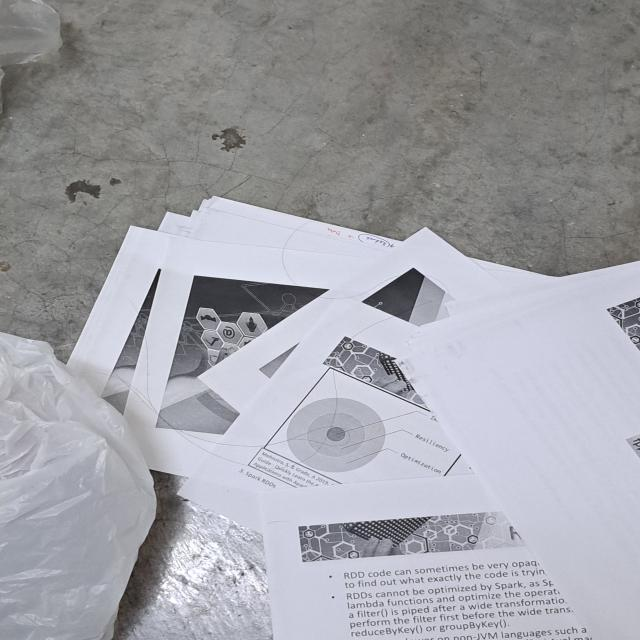paper: (72, 195, 640, 640)
plastic bag: (0, 334, 160, 640)
